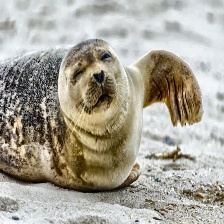seal: (47, 38, 204, 191)
